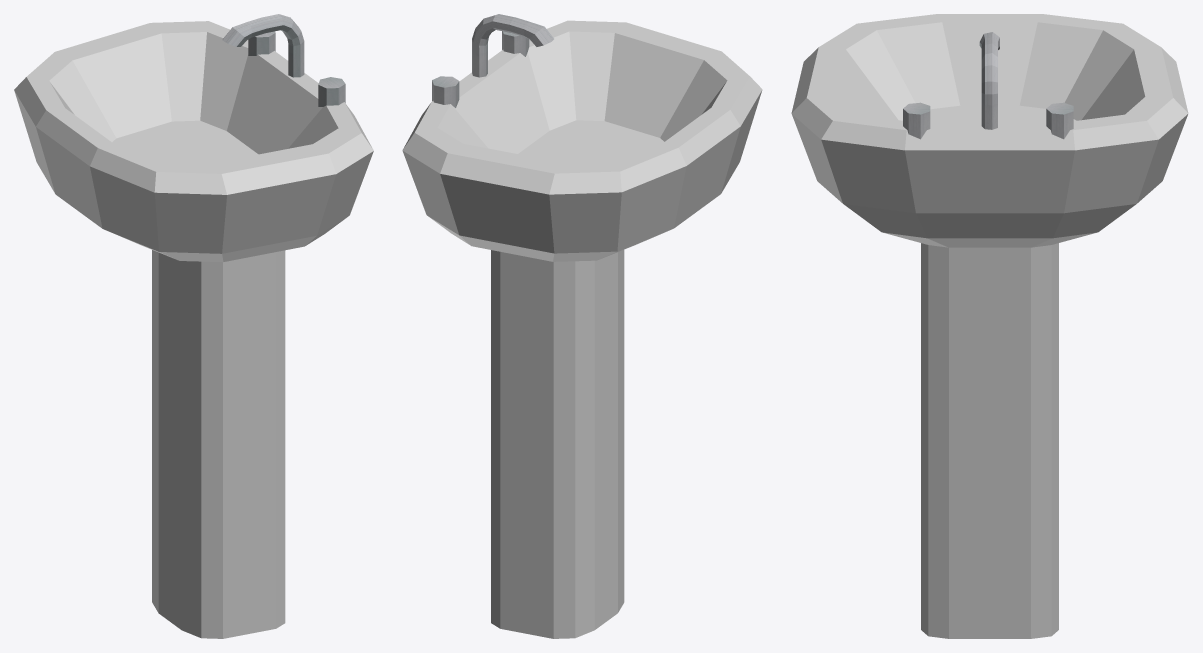
File: BATHROOM_SINK.fbx
3 views of the same model, side by side, from view 1: azimuth 30°, elevation 25°; view 2: azimuth 150°, elevation 25°; view 3: azimuth 270°, elevation 25° (orthographic). The views are drawn at different scales.
Parts seen in each view (by area): view 1: BATHROOM_SINK; view 2: BATHROOM_SINK; view 3: BATHROOM_SINK.
Part boxes in pixels (x1,y1,x2,y2): BATHROOM_SINK: (14,14,373,638); BATHROOM_SINK: (402,14,762,638); BATHROOM_SINK: (791,14,1188,638).
Bounding box in the file's own units: 58.29 × 129 × 77.97.
